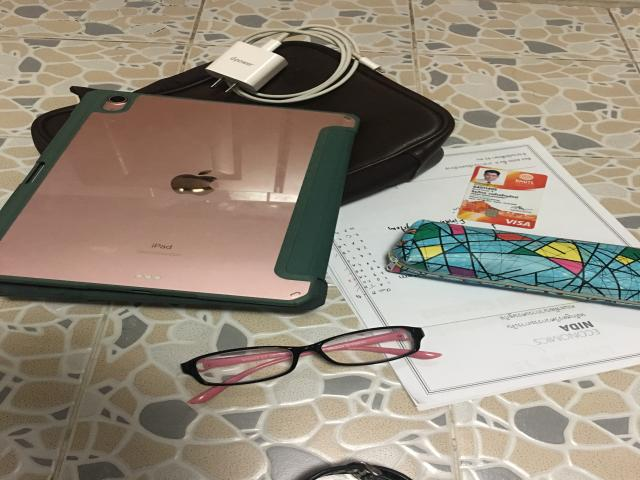Glasses: (182, 326, 440, 387)
Watch: (305, 461, 412, 480)
paper: (328, 139, 638, 410)
wire: (207, 24, 383, 103)
